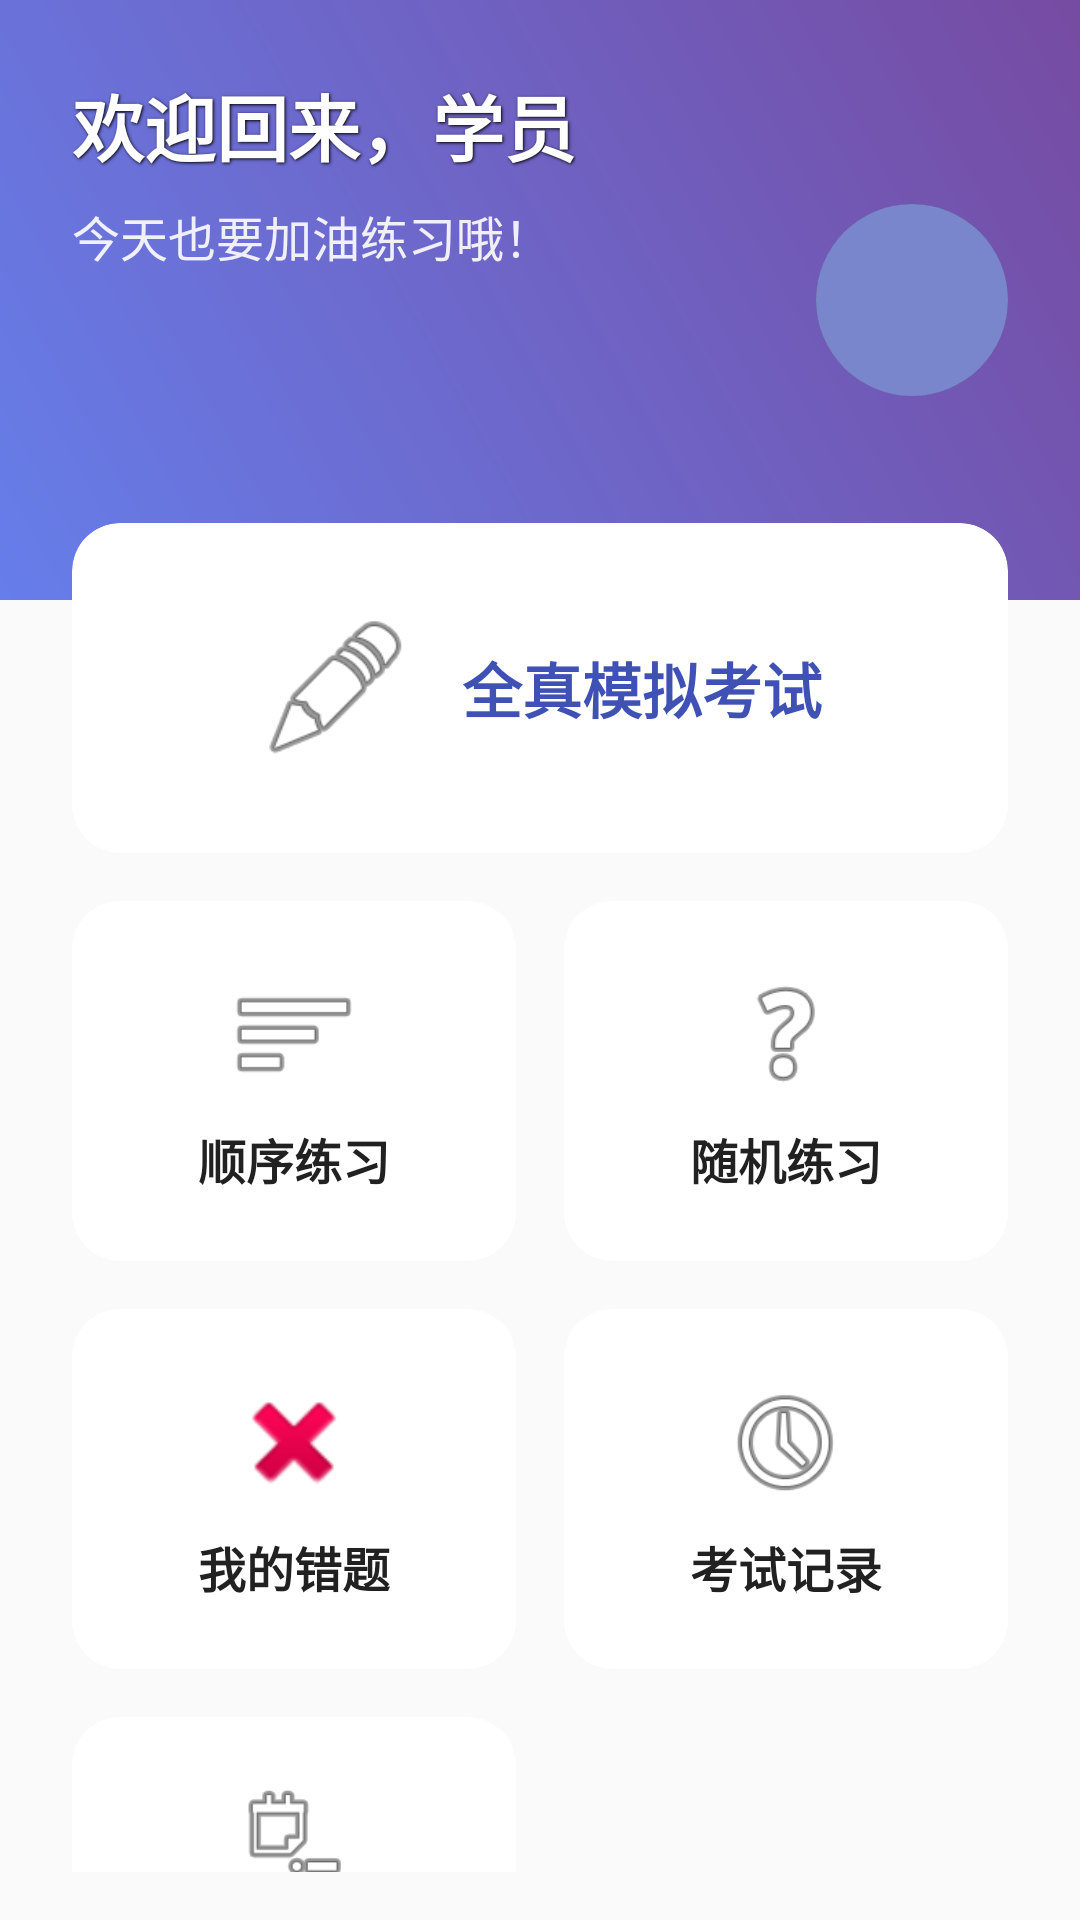

Point at icon controls on the screen. Image size 1080px×1920px, points as (x=x, y=y).
agenda: (x=294, y=1831)
delete: (x=294, y=1442)
edit: (x=335, y=687)
help: (x=786, y=1034)
recent history: (x=785, y=1443)
sort by size: (x=294, y=1035)
